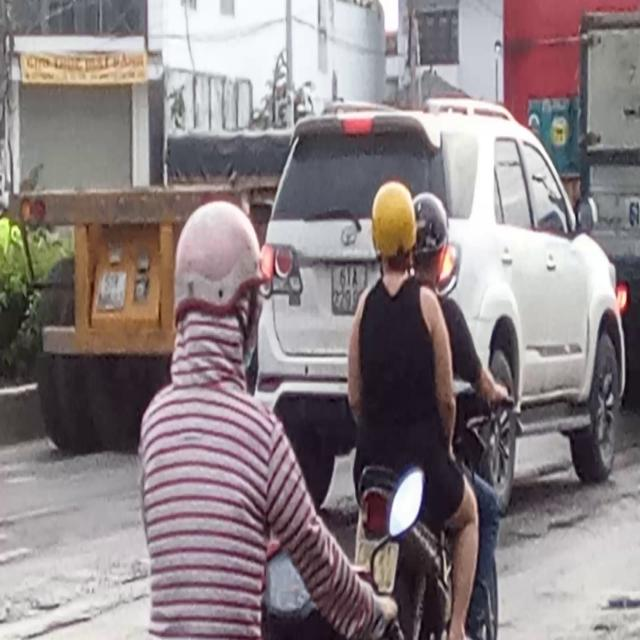bien_trang: (329, 264, 368, 316)
